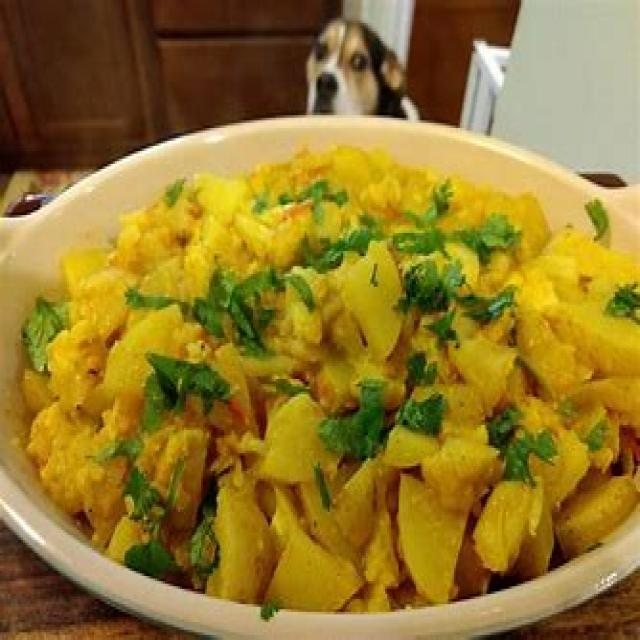Aloo Gobi: (206, 251, 528, 604)
